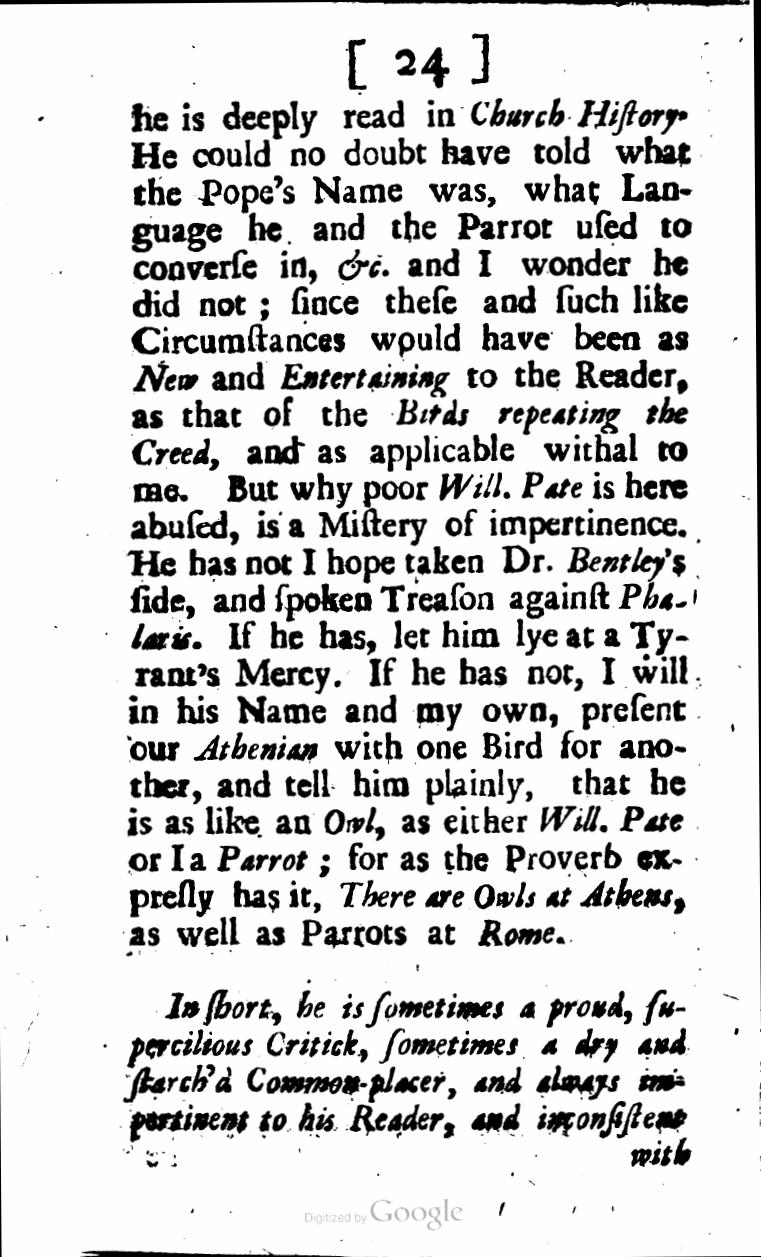bottom_p: (128, 95, 697, 955)
catchword: (628, 1142, 695, 1168)
page_num: (390, 40, 453, 92)
top_p: (123, 988, 687, 1138)
